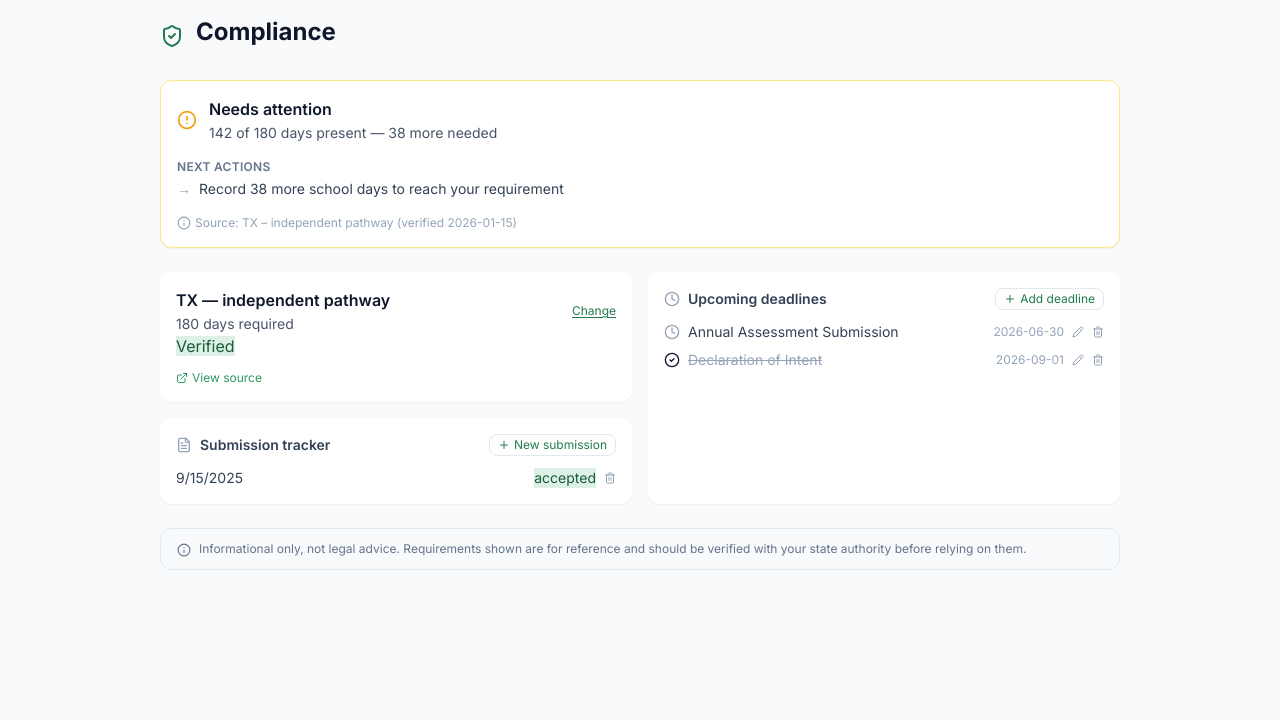
Test: CompliancePage › shows a helpful empty-state message instead of a bare empty ruleset selector when no rulesets exist
This screenshot has width=1280, height=720.
Expected: the element with test id "compliance-ruleset" is shown, top-left (160, 272), bottom-right (632, 402)
Click the button "Change".
click(594, 311)  # box top-left (572, 303), bottom-right (616, 319)
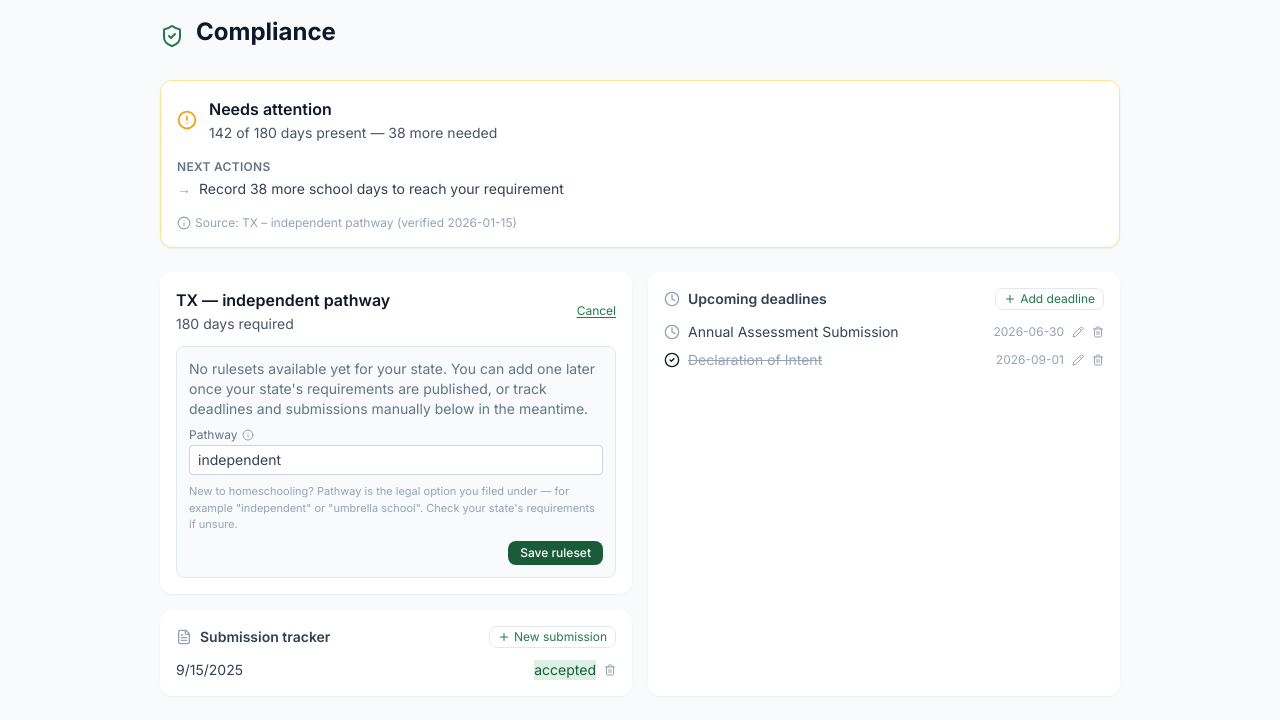
Result: the text "No rulesets available yet" is shown at top-left (189, 360), bottom-right (595, 417)
